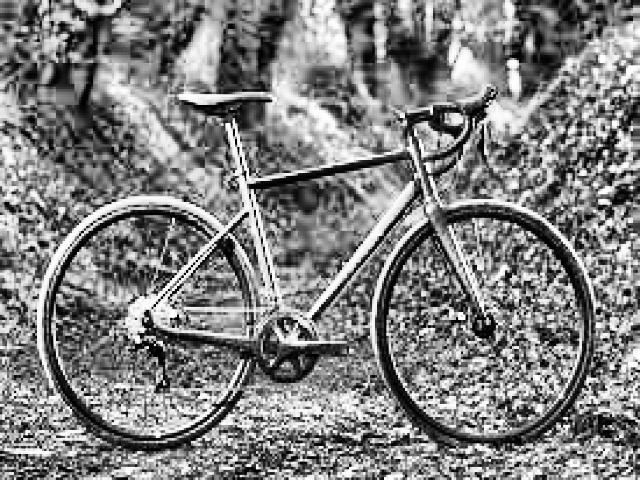cranks_set: (248, 306, 352, 387)
sti_shifter: (473, 79, 497, 164)
wheel: (37, 195, 267, 455), (368, 198, 598, 444)
